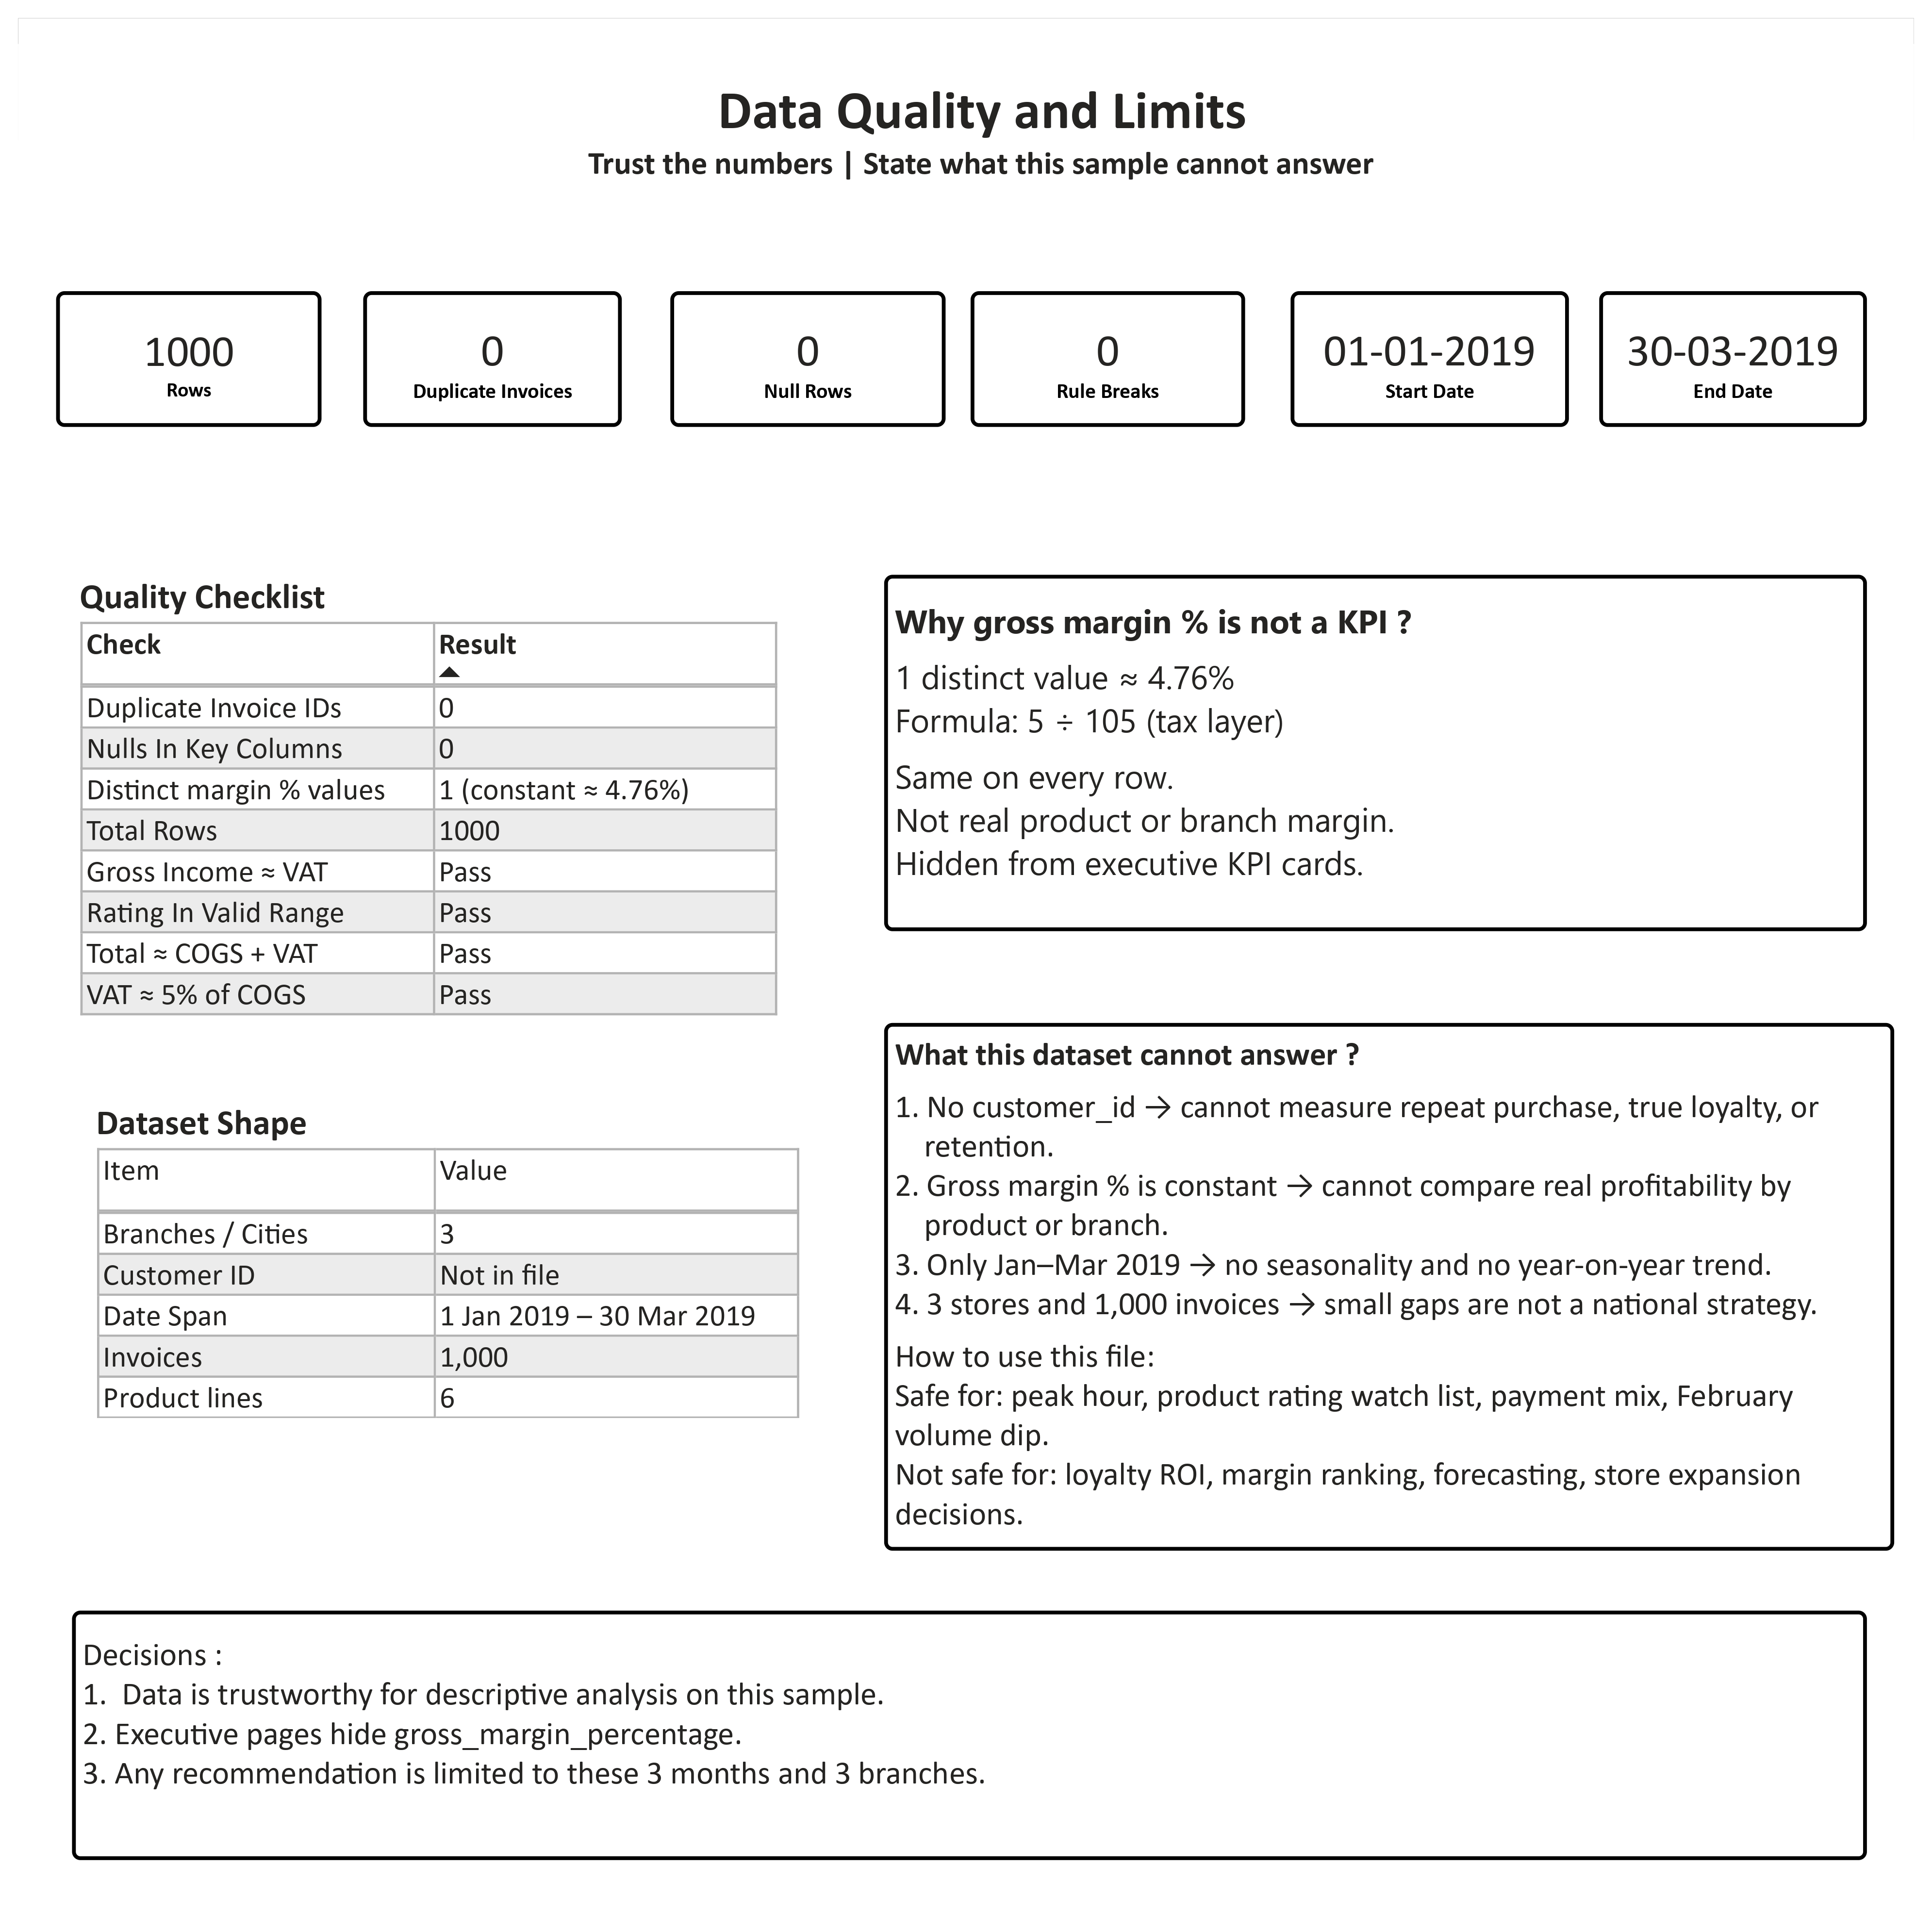

The dashboard page shown, as its layout file describes it:
{"tool":"powerbi","page":{"name":"Page 5","canvas":[2500,2500],"ordinal":4},"visuals":[{"type":"card","fields":{"Values":["sales_transactions.Row"]},"box":[50,359.9,350.3,178.7],"z":0},{"type":"textbox","box":[723,88,320,157],"z":5},{"type":"card","fields":{"Values":["sales_transactions.Duplicate Invoices"]},"box":[455.2,359.9,340.8,178.7],"z":8},{"type":"card","fields":{"Values":["sales_transactions.Null Rows"]},"box":[860.3,359.9,362.2,178.7],"z":9},{"type":"card","fields":{"Values":["sales_transactions.Rule Breaks"]},"box":[1256,359.9,362.2,178.7],"z":10},{"type":"card","fields":{"Values":["sales_transactions.Start Date"]},"box":[1677.8,359.9,367,178.7],"z":11},{"type":"card","fields":{"Values":["sales_transactions.End Date"]},"box":[2085.3,359.9,352.7,178.7],"z":12},{"type":"tableEx","title":"Quality Checklist","fields":{"Values":["Quality Checklist.Check","Quality Checklist.Result"]},"box":[76.3,734,965.2,619.6],"z":13},{"type":"textbox","title":"Why gross margin % is not a KPI","box":[1141.6,734,1296.5,469.5],"z":14},{"type":"tableEx","title":"Dataset Shape","fields":{"Values":["Dataset Shape.Item","Dataset Shape.Value"]},"box":[97.7,1427.6,967.6,457.6],"z":15},{"type":"textbox","box":[1141.6,1325.1,1332.2,695.9],"z":16},{"type":"textbox","box":[71.5,2099.6,2366.5,328.9],"z":17},{"type":"textbox","box":[71.5,71.5,2366.5,193],"z":18}]}

Visuals, with their boxes in screenshot pixels (x1, y1, x2, y2), scaled from the page's 2500x2500 canvas onto the 1932x1932 screenshot:
card - sales_transactions.Row: 39, 278, 309, 416
textbox: 559, 68, 806, 189
card - sales_transactions.Duplicate Invoices: 352, 278, 615, 416
card - sales_transactions.Null Rows: 665, 278, 945, 416
card - sales_transactions.Rule Breaks: 971, 278, 1251, 416
card - sales_transactions.Start Date: 1297, 278, 1580, 416
card - sales_transactions.End Date: 1612, 278, 1884, 416
"Quality Checklist" tableEx: 59, 567, 805, 1046
"Why gross margin % is not a KPI" textbox: 882, 567, 1884, 930
"Dataset Shape" tableEx: 76, 1103, 823, 1457
textbox: 882, 1024, 1912, 1562
textbox: 55, 1622, 1884, 1877
textbox: 55, 55, 1884, 204
